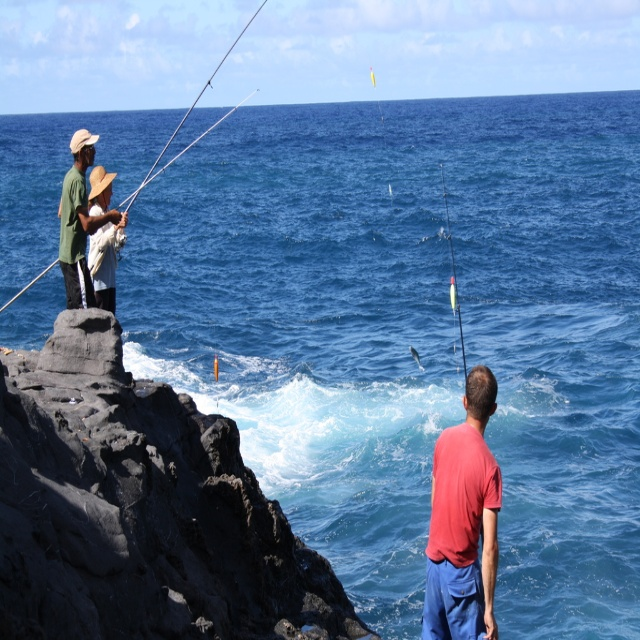Fish: (408, 343, 422, 369)
